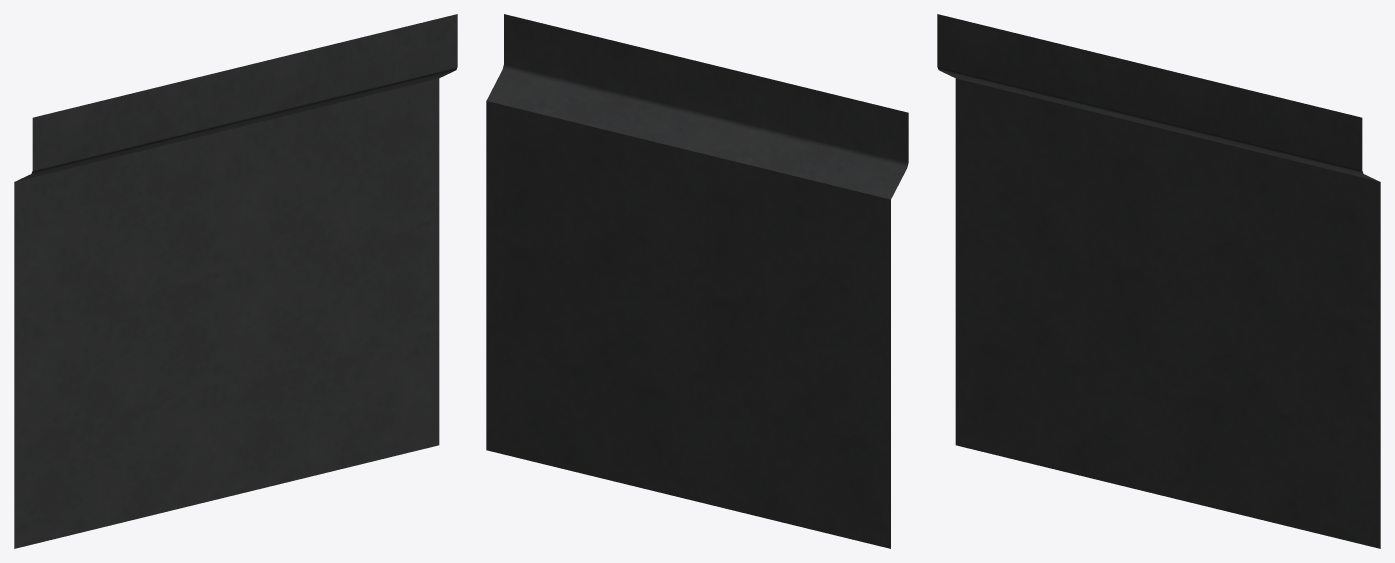
Rendered from M_Wall_Upper Part_4x10_v2.fbx.
The picture shows the model from 3 angles, left to right: view 1: azimuth 30°, elevation 25°; view 2: azimuth 150°, elevation 25°; view 3: azimuth 330°, elevation 25°; orthographic projection. The views are drawn at different scales.
Parts seen in each view (by area): view 1: Wall_Upper_Part_4x10_v2; view 2: Wall_Upper_Part_4x10_v2; view 3: Wall_Upper_Part_4x10_v2.
Boxes of the visible parts, x1=… form: Wall_Upper_Part_4x10_v2: x1=14, y1=14, x2=457, y2=548; Wall_Upper_Part_4x10_v2: x1=486, y1=14, x2=908, y2=548; Wall_Upper_Part_4x10_v2: x1=937, y1=14, x2=1380, y2=548.
Size of the model in its own units: 400 by 400 by 30.
